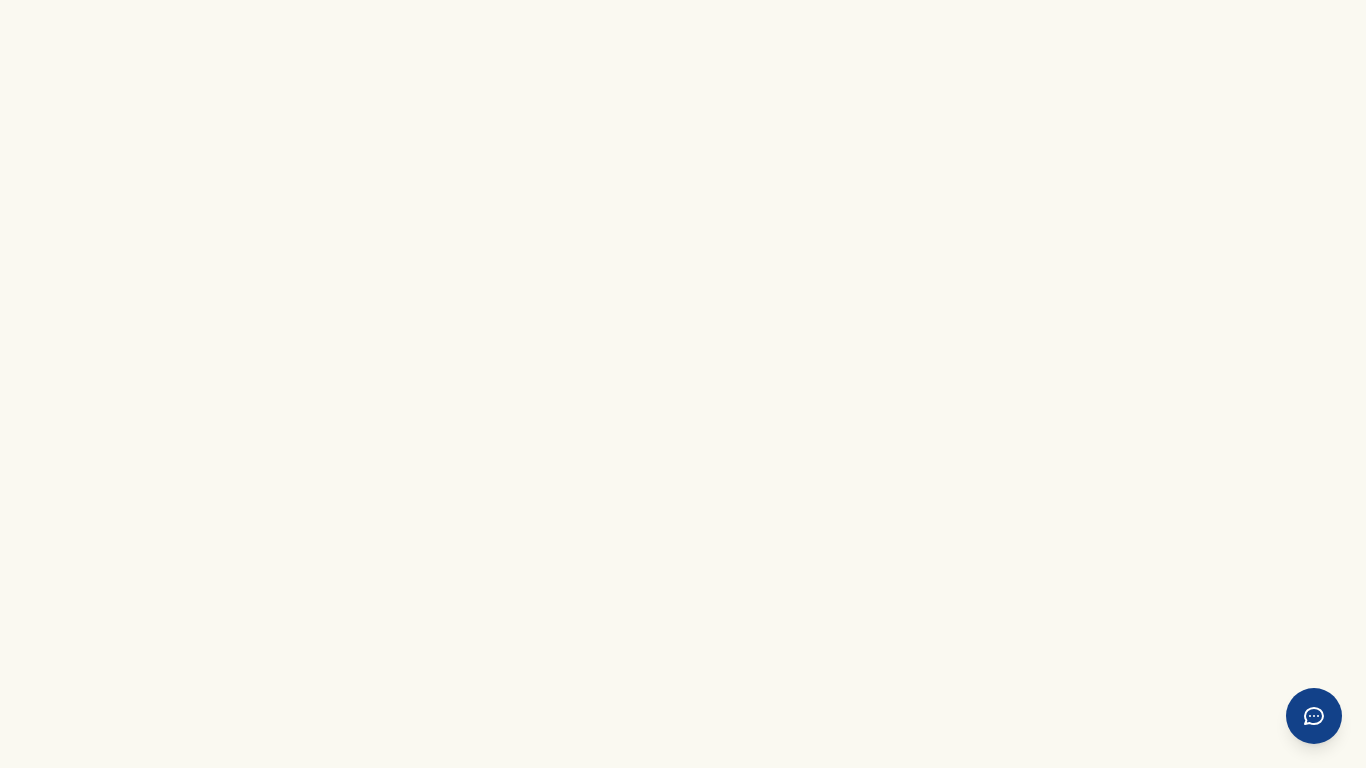
Test: ConciergeChat › renders streaming tokens as they arrive
Click the button named "open concierge". click: (1314, 716)
box: [1286,688,1342,744]
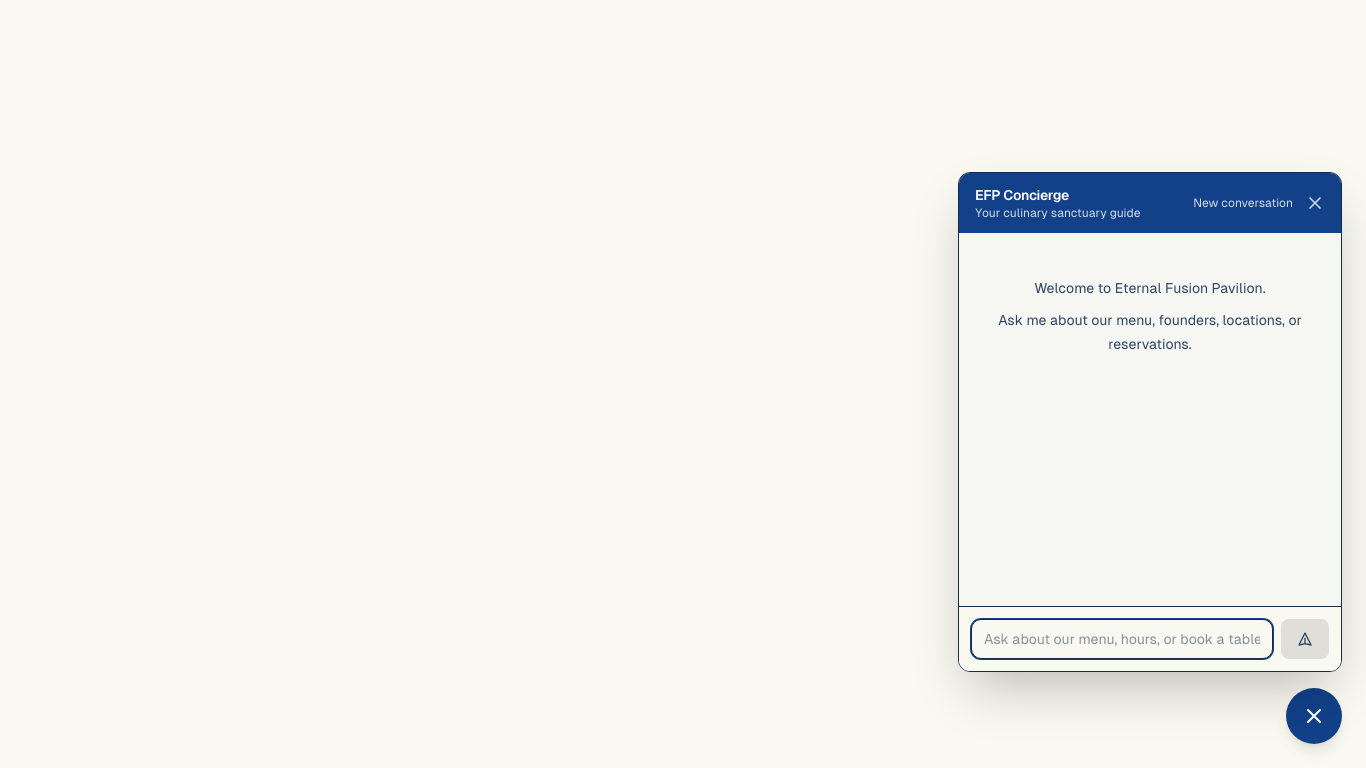
Type "hi" into the field named "type your message". click: (1122, 639)
box: [971,619,1273,659]
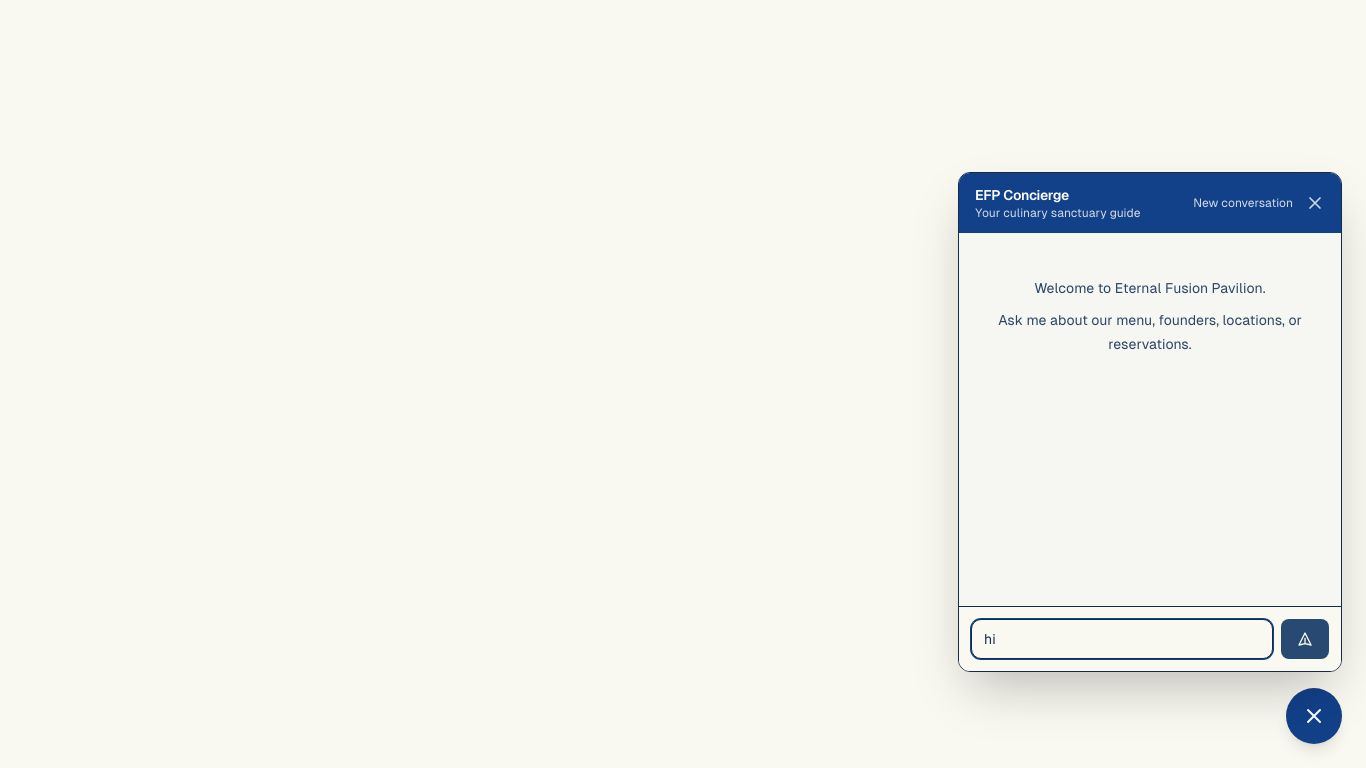
Press Enter in the field named "type your message", box [971,619,1273,659]
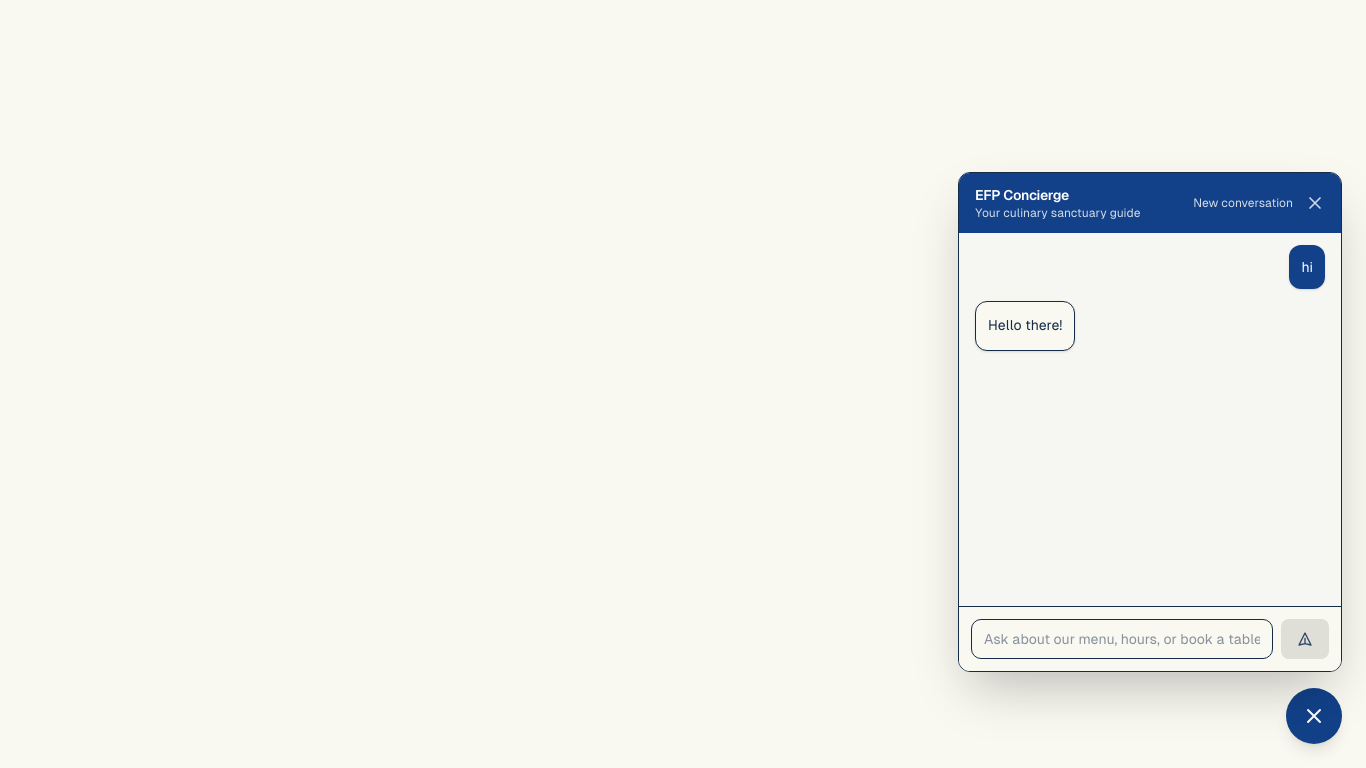
Check: the text "Hello there!" is shown, box [988,314,1062,338]
